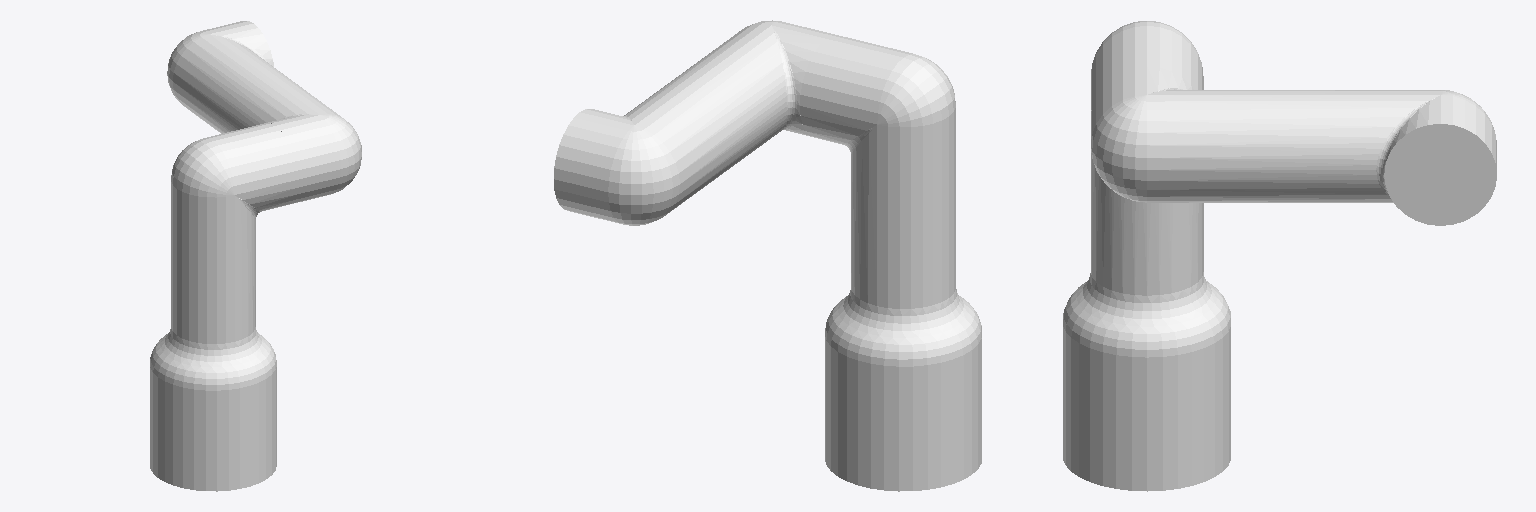
The robot description file, URDF, robot "single_link_arm":
<?xml version="1.0"?>

<robot name="single_link_arm">

<link name="base_link">
</link>

<link name="base">
        <visual>
            <origin xyz="0.0 0.0 0" rpy="0 0 0" />
            <geometry>
                <mesh filename="package://slm_sim/models/Base_2.stl"/>
            </geometry>
            <material name="White">
                <color rgba="0.97 0.97 0.97 1.0"/>
            </material>
        </visual>

        <collision>
            <origin xyz="0 0 0.21" rpy="0 0 0"/>
            <geometry>
                <cylinder length="0.42" radius=".075" />
            </geometry>
        </collision>

        <inertial>
            <origin xyz="0 0 0.21" rpy="0 0 0"/>
            <mass value="2.0"/>
            <inertia ixx="0.032" ixy="0.0" ixz="0.0" iyy="0.0324" iyz="0.0" izz="0.0056"/>
        </inertial>

</link>

<link name="link1">
        <visual>
            <origin xyz="0.06 0.13 0.0" rpy="1.57 -1.57 0.0" />
            <geometry>
                <mesh filename="package://slm_sim/models/Arm_2.stl"/>
            </geometry>
            <material name="White">
                <color rgba="0.97 0.97 0.97 1.0"/>
            </material>
        </visual>

        <collision>
            <origin xyz="0.06 0.13 0.0" rpy="1.57 0 0"/>
            <geometry>
                <cylinder length="0.36" radius=".05" />
            </geometry>
        </collision>

        <inertial>
            <origin xyz="0.06 0.13 0.0" rpy="1.57 0 0"/>
            <mass value="0.5"/>
            <inertia ixx="0.009" ixy="0.0" ixz="0.0" iyy="0.00" iyz="0.0" izz="0.0099"/>
        </inertial>
</link>

<joint name="joint1" type="fixed">
    <origin xyz="0 0 0" rpy="0 0 0" />
    <parent link="base_link" />
    <child link="base" />
</joint>

<joint name="joint2" type="continuous">
    <origin xyz="0.085 0 0.37" rpy="0 0.0 0.0" />
    <parent link="base" />
    <child link="link1" />
    <axis xyz="1 0 0" />
</joint>

</robot>

--- What the picture shows (computed from the rendered views, not written in the file) ---
Views: 3 orthographic renders of the robot side by side, from view 1: azimuth 30°, elevation 25°; view 2: azimuth 150°, elevation 25°; view 3: azimuth 270°, elevation 25°.
Model single_link_arm with 3 links and 2 joints (1 continuous, 1 fixed), rooted at base_link, posed every joint at zero.
Links seen in each view (by area): view 1: base, link1; view 2: base, link1; view 3: base, link1.
Boxes of the visible links, x1,y1,x2,y2 form: base: (150,123,296,491); link1: (167,21,361,204); base: (800,35,981,491); link1: (554,20,834,225); base: (1063,21,1230,491); link1: (1091,66,1496,225).
Size in the robot's own frame: 0.2802 by 0.3847 by 0.42 metres.
Meshes: 2 distinct files referenced, 2 mesh visuals loaded (2 binary STL).